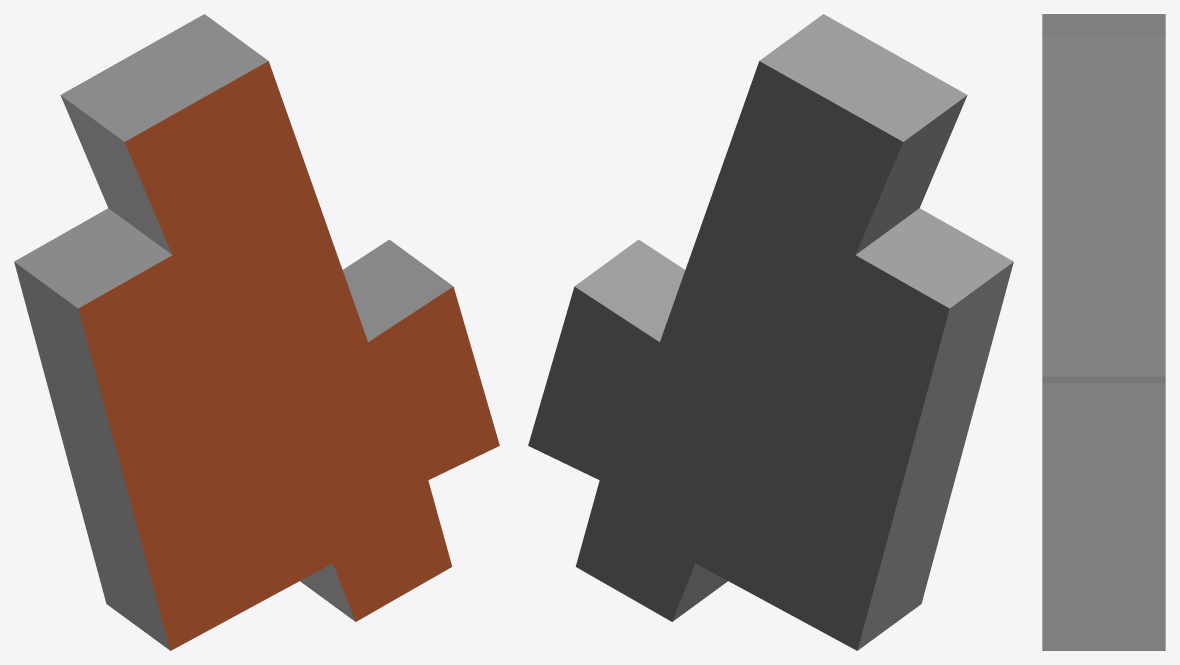
File: construction_4929_assumed_A_Casa_h6m.obj
3 renders of one model, left to right at view 1: azimuth 30°, elevation 25°; view 2: azimuth 150°, elevation 25°; view 3: azimuth 270°, elevation 25°, orthographic. The views are drawn at different scales.
Parts seen in each view (by area): view 1: construction_4929_assumed_A_Casa; view 2: construction_4929_assumed_A_Casa; view 3: construction_4929_assumed_A_Casa.
Part boxes in pixels (bbox=[...]): construction_4929_assumed_A_Casa: bbox=[14, 14, 499, 650]; construction_4929_assumed_A_Casa: bbox=[528, 14, 1013, 650]; construction_4929_assumed_A_Casa: bbox=[1042, 14, 1165, 650].
Size of the model in its own units: 22.75 by 30.02 by 6.
